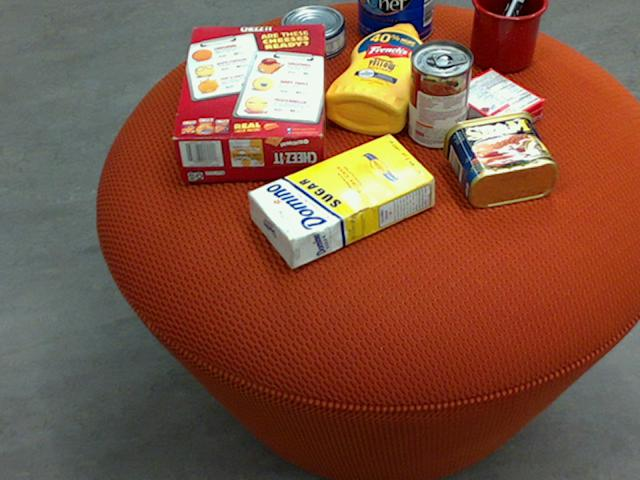cracker_box: (169, 22, 326, 180)
gelatin_box: (448, 69, 545, 140)
large_marker: (481, 0, 522, 63)
master_chef_can: (357, 0, 433, 44)
mug: (469, 0, 548, 71)
mustard_bottle: (323, 23, 428, 134)
potted_meat_can: (441, 109, 556, 206)
sugar_box: (246, 132, 435, 269)
tomato_soup_can: (408, 38, 471, 147)
tuna_fish_can: (278, 5, 344, 58)
